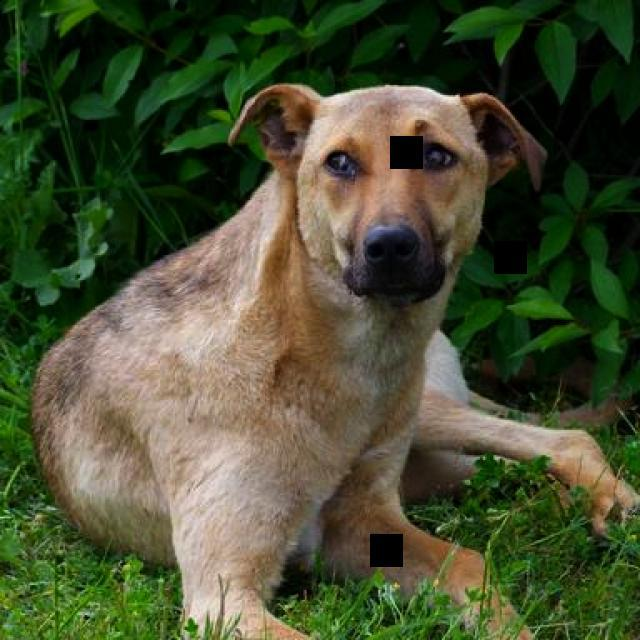adult_dog: (25, 85, 640, 640)
